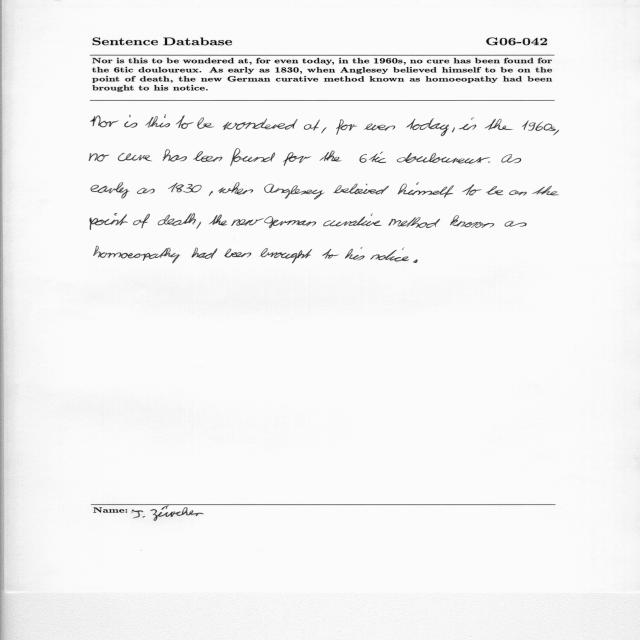word: (93, 246, 180, 263), (397, 153, 490, 164), (264, 184, 325, 199), (223, 118, 298, 130), (398, 182, 454, 198), (230, 148, 275, 166), (260, 248, 312, 263), (323, 214, 382, 227), (407, 118, 449, 136), (91, 182, 129, 199), (90, 213, 128, 230), (264, 216, 316, 228), (333, 184, 389, 195), (370, 247, 409, 262), (450, 215, 494, 228), (389, 217, 440, 228), (158, 213, 196, 226), (218, 182, 253, 195), (283, 152, 311, 166), (145, 114, 170, 128), (522, 121, 556, 131), (168, 183, 202, 193), (91, 116, 119, 128), (336, 119, 357, 135), (162, 149, 187, 162), (193, 151, 222, 162), (192, 247, 218, 259), (485, 119, 513, 130), (360, 152, 387, 163), (118, 153, 152, 161), (532, 186, 559, 196), (231, 218, 264, 226), (176, 115, 194, 129), (345, 247, 364, 260), (225, 249, 252, 258), (320, 151, 342, 162), (133, 214, 150, 228), (462, 185, 482, 196), (365, 124, 396, 131), (459, 118, 477, 130), (209, 215, 228, 226), (198, 117, 215, 129), (124, 114, 138, 128), (89, 153, 110, 162), (502, 154, 522, 163), (304, 120, 320, 131), (322, 249, 339, 259), (486, 186, 503, 195), (505, 221, 527, 227), (137, 188, 155, 194), (509, 190, 527, 196), (196, 222, 201, 229), (322, 128, 327, 134), (553, 130, 559, 135), (209, 191, 213, 196), (413, 259, 418, 263), (452, 128, 455, 133), (488, 161, 490, 163)
